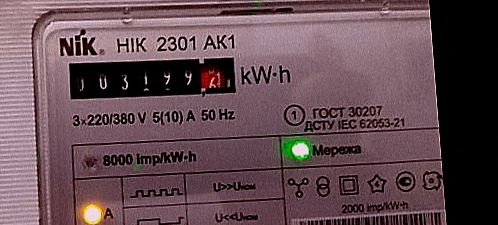0: (72, 71, 86, 93), (95, 69, 109, 90)
1: (139, 66, 150, 86)
3: (117, 71, 130, 90)
6: (207, 73, 218, 90)
9: (160, 65, 173, 86), (181, 66, 194, 86)
screen: (60, 45, 246, 113)
